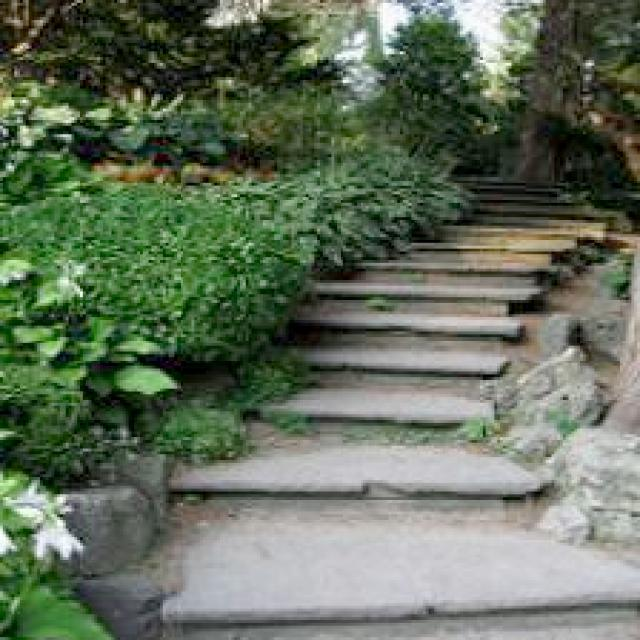upstair: (152, 275, 581, 570)
